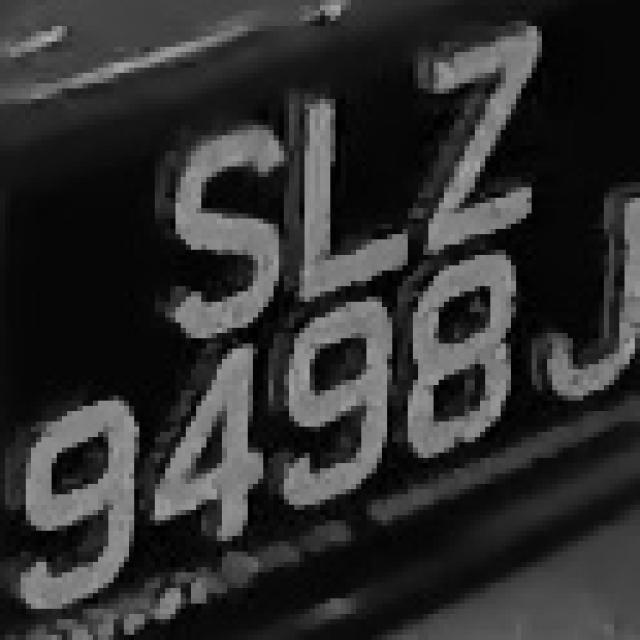4: (124, 344, 294, 546)
8: (402, 266, 536, 468)
9: (274, 302, 402, 505), (21, 396, 134, 619)
J: (547, 198, 640, 416)
L: (274, 73, 408, 291)
S: (129, 120, 284, 333)
Z: (418, 42, 557, 245)
